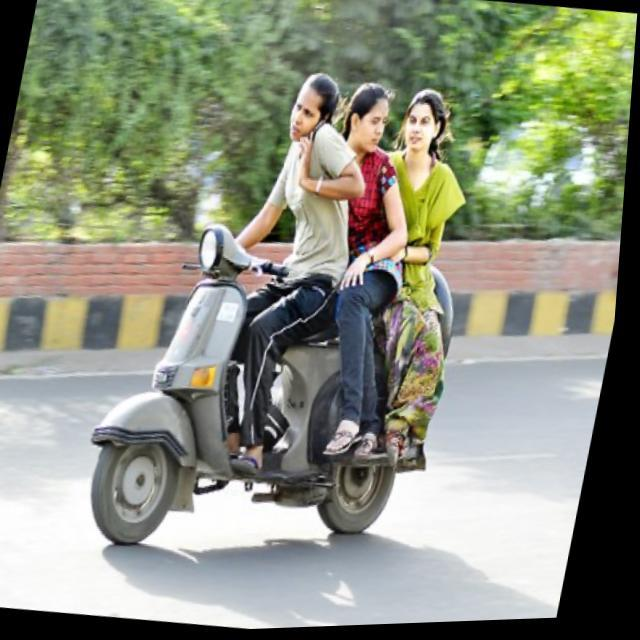Nonhelmet: (342, 76, 399, 168), (393, 86, 457, 160), (285, 64, 340, 150)
